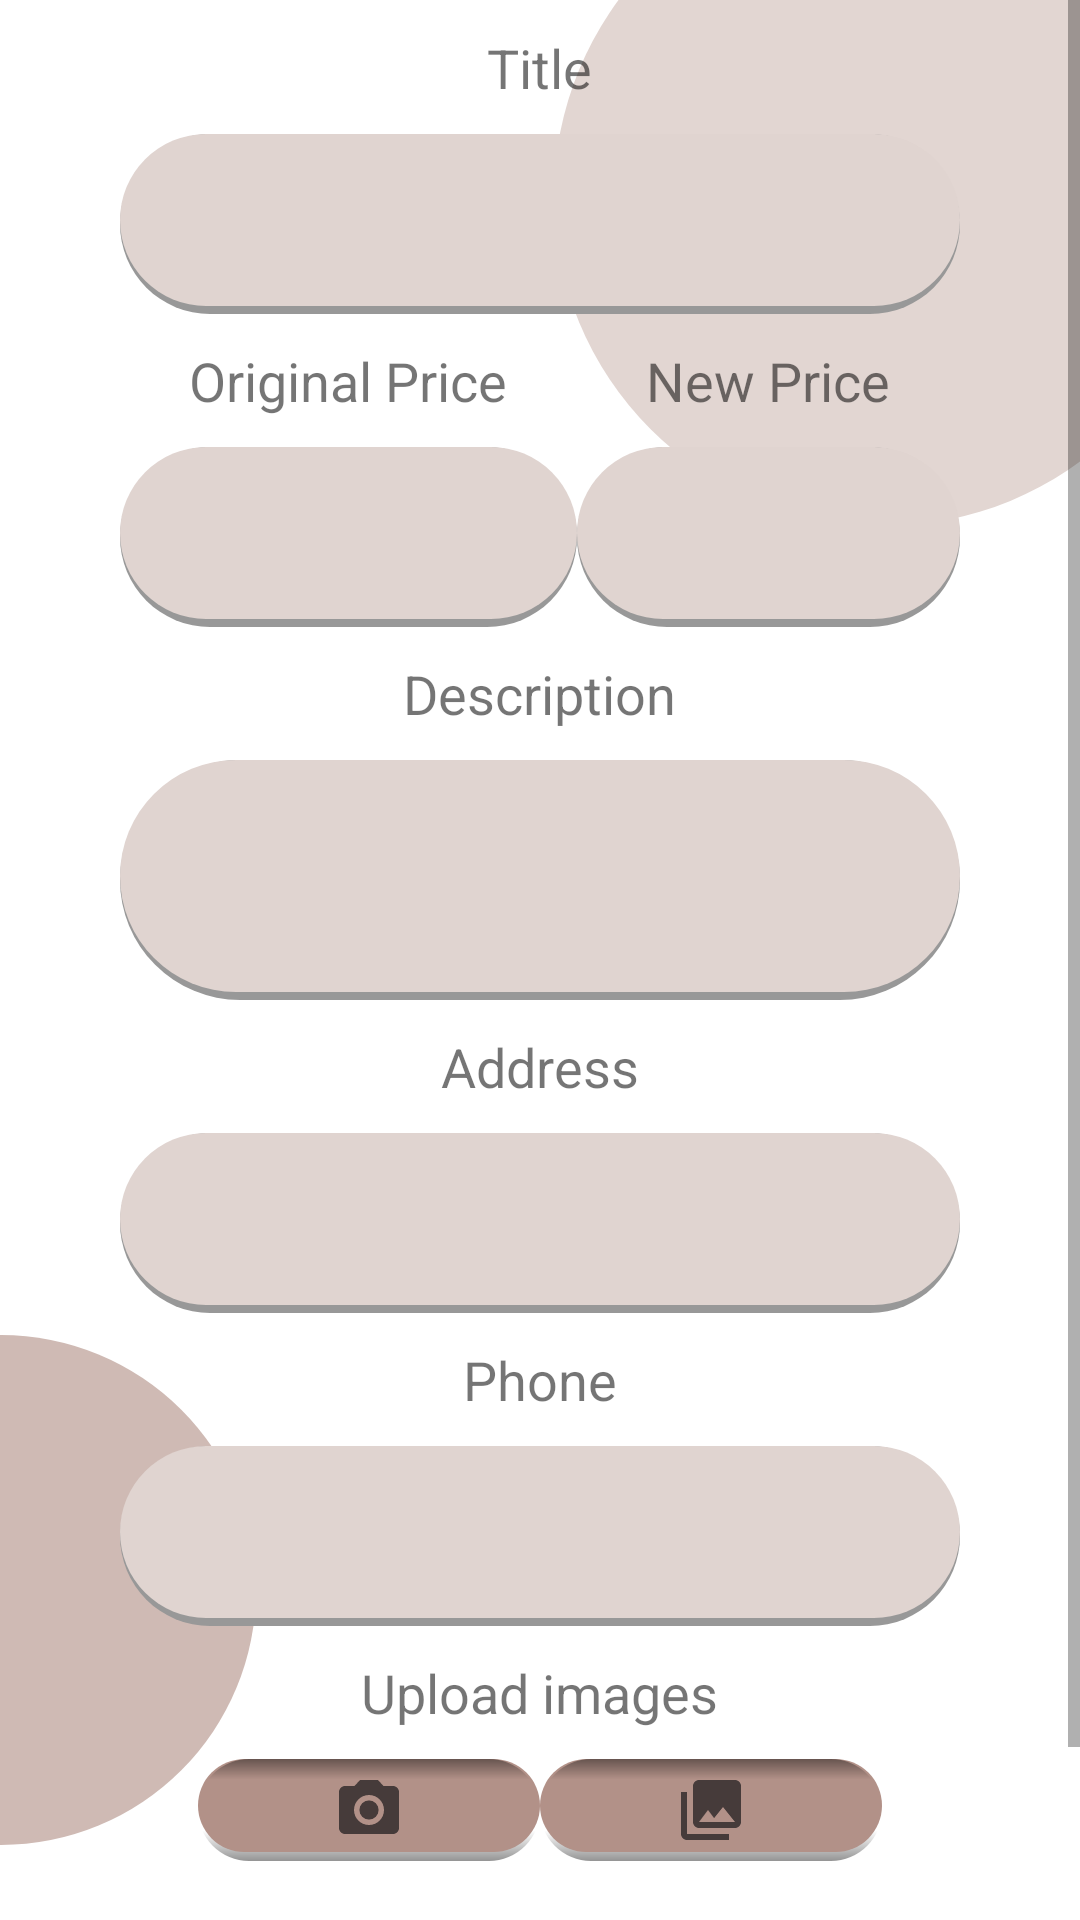

Where to tap for icons on this 1080 × 1920 app screen, as (x,y):
photo camera: (369,1810)
photo library: (711,1810)
